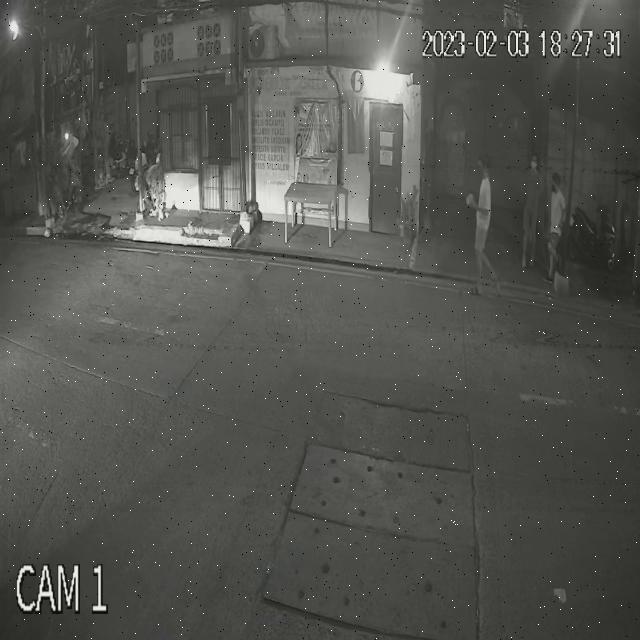human: (466, 153, 501, 299)
trash: (466, 188, 474, 206)
